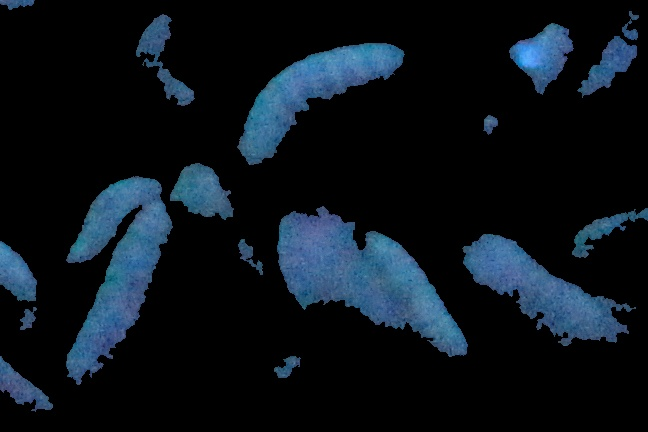larvae: (464, 227, 645, 372), (237, 39, 406, 164), (66, 200, 175, 381), (362, 226, 465, 369), (170, 161, 267, 291), (65, 177, 162, 265), (573, 9, 644, 113), (136, 13, 198, 113), (562, 198, 648, 260)
